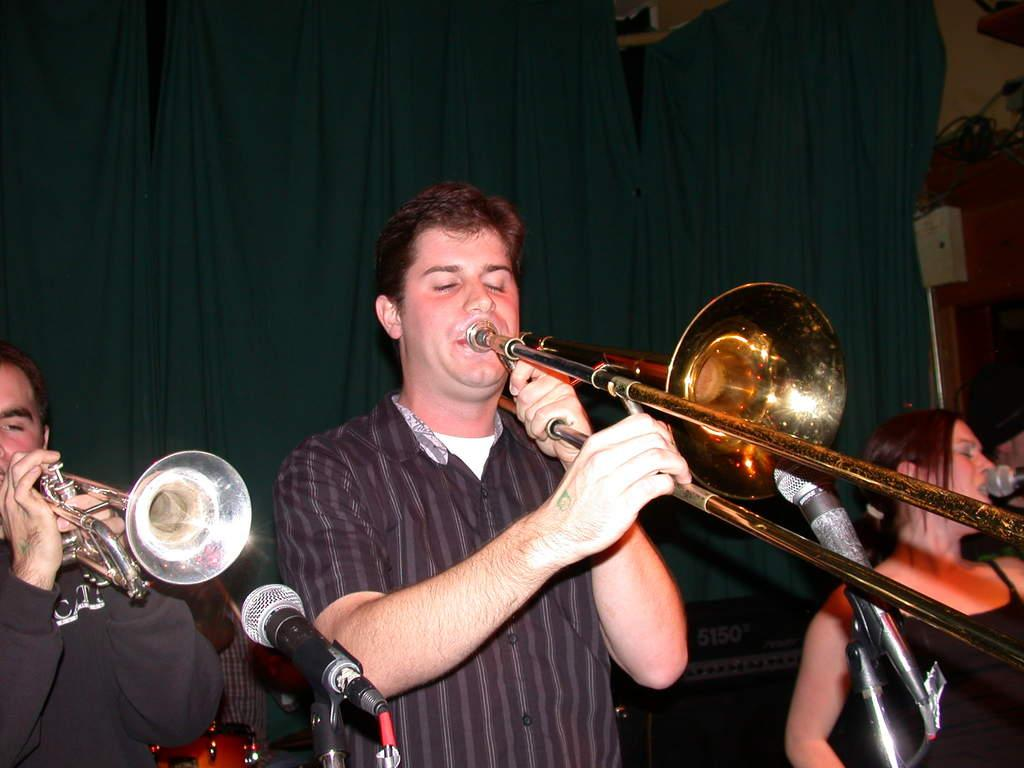Pessoa: (275, 182, 689, 767), (0, 341, 221, 767), (865, 496, 1023, 636), (967, 363, 1023, 469)
